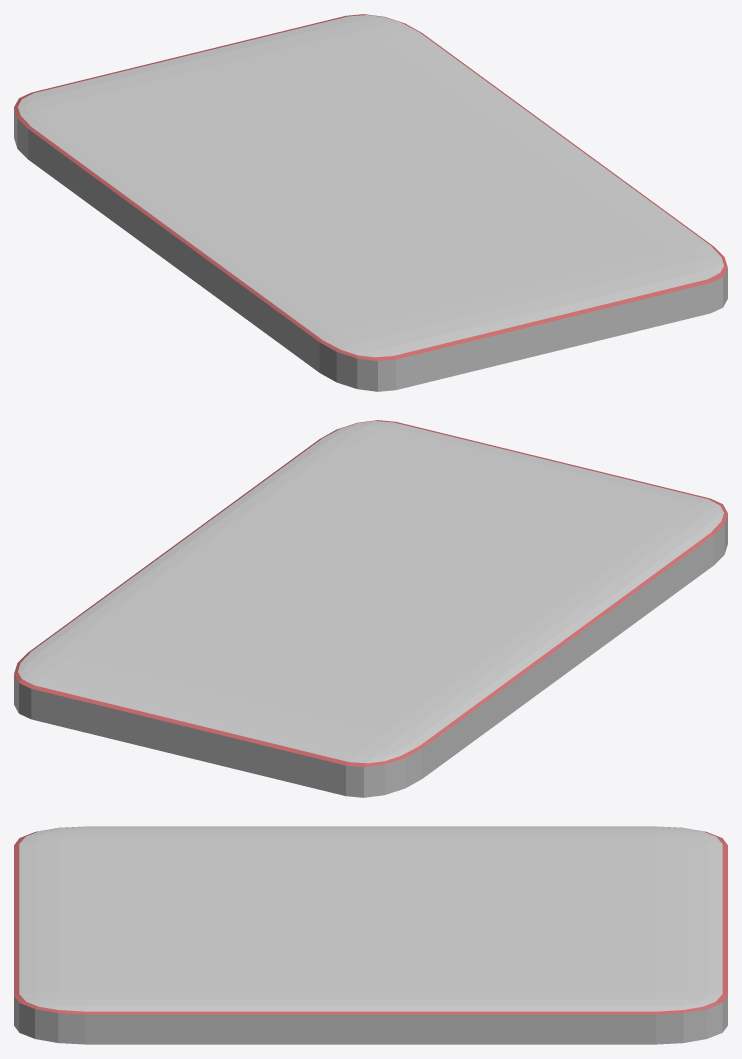
Rendered from Platform.fbx.
3 renders of one model, top to bottom at view 1: azimuth 30°, elevation 25°; view 2: azimuth 150°, elevation 25°; view 3: azimuth 270°, elevation 25°, orthographic. The views are drawn at different scales.
Parts seen in each view (by area): view 1: Cube; view 2: Cube; view 3: Cube.
Part boxes in pixels (left/top/right/bottom): Cube: left=14, top=14, right=727, bottom=391; Cube: left=14, top=420, right=727, bottom=797; Cube: left=14, top=826, right=727, bottom=1044.
Size of the model in its own units: 996 by 92.66 by 1597.
